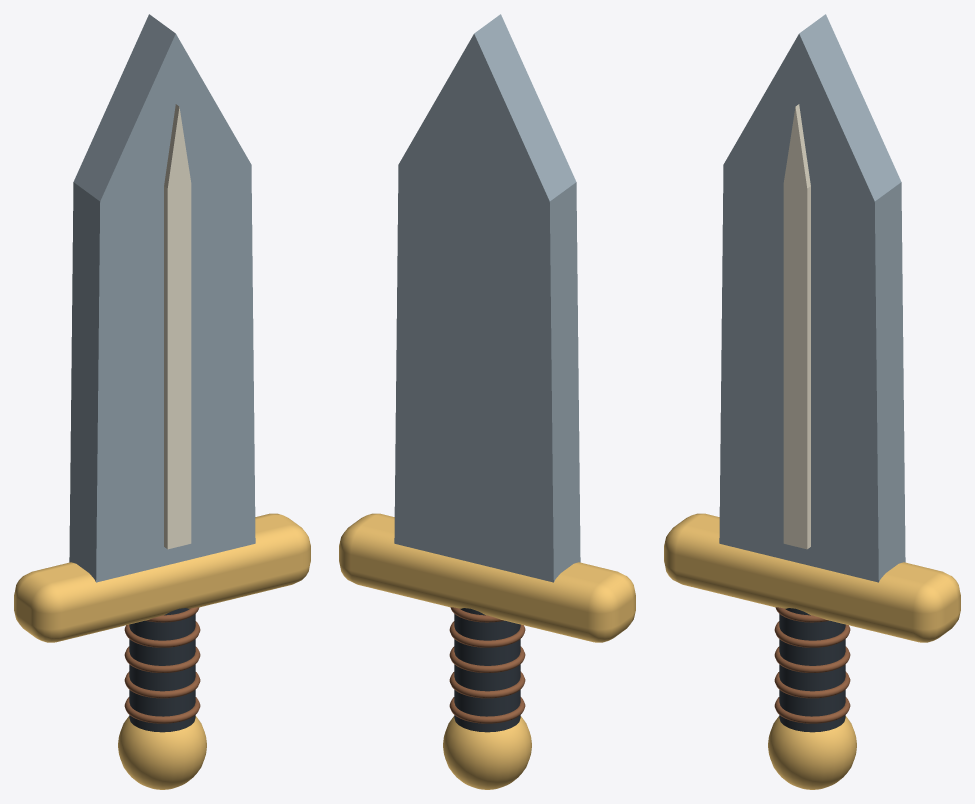
The model's file is BLADE.glb.
The picture shows the model from 3 angles, left to right: view 1: azimuth 30°, elevation 25°; view 2: azimuth 150°, elevation 25°; view 3: azimuth 330°, elevation 25°; orthographic projection.
Visible parts, largest first — view 1: BLADE; view 2: BLADE; view 3: BLADE.
Boxes of the visible parts, x1,y1,x2,y2 form: BLADE: (14, 14, 310, 789); BLADE: (339, 14, 635, 789); BLADE: (664, 14, 960, 789).
Bounding box in the file's own units: 0.33 × 0.866 × 0.092.
